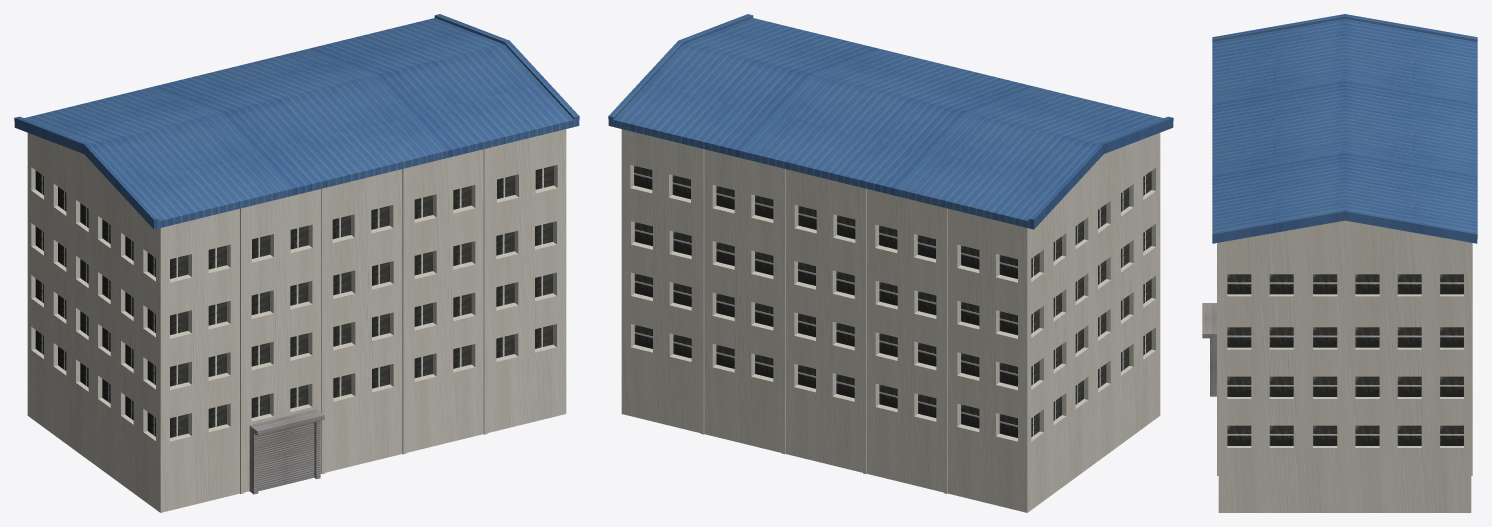
Rendered from landingfang.fbx.
The picture shows the model from 3 angles, left to right: view 1: azimuth 30°, elevation 25°; view 2: azimuth 150°, elevation 25°; view 3: azimuth 270°, elevation 25°; orthographic projection. The views are drawn at different scales.
Visible parts, largest first — view 1: Box001, 对象001, Box004; view 2: Box001, 对象001; view 3: Box001, 对象001, Box004.
Boxes of the visible parts, x1,y1,x2,y2 form: Box001: (27, 129, 566, 512); 对象001: (14, 14, 579, 229); Box004: (249, 409, 324, 494); Box001: (621, 129, 1160, 512); 对象001: (608, 14, 1173, 229); Box001: (1217, 220, 1472, 512); 对象001: (1212, 14, 1477, 243); Box004: (1202, 303, 1216, 396).
Size of the model in its own units: 200 by 145 by 118.
Materials: 4 (4 with a texture image).
